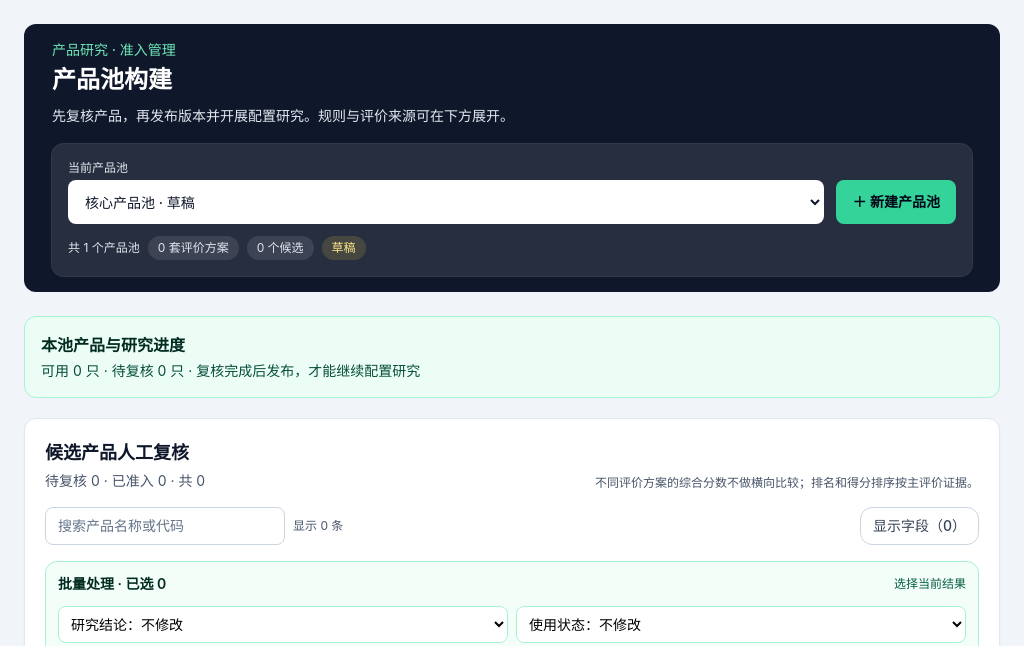
Test case: ProductPools › creates a product-pool draft from the header dialog
Expected: the dropdown labelled "当前产品池" is shown, left=68, top=180, right=824, bottom=224
Step 1. Click the button "＋ 新建产品池" → coordinates (896, 202), box left=836, top=180, right=956, bottom=224
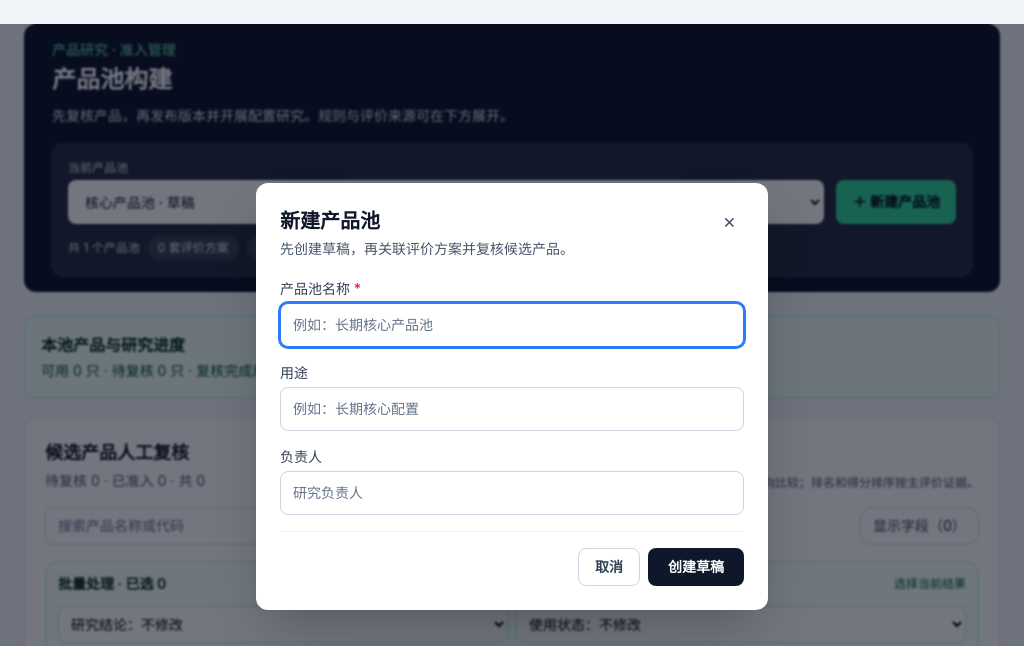
Step 2. Type "战术产品池" into the field named "新产品池名称" → coordinates (512, 324), box left=280, top=302, right=744, bottom=346
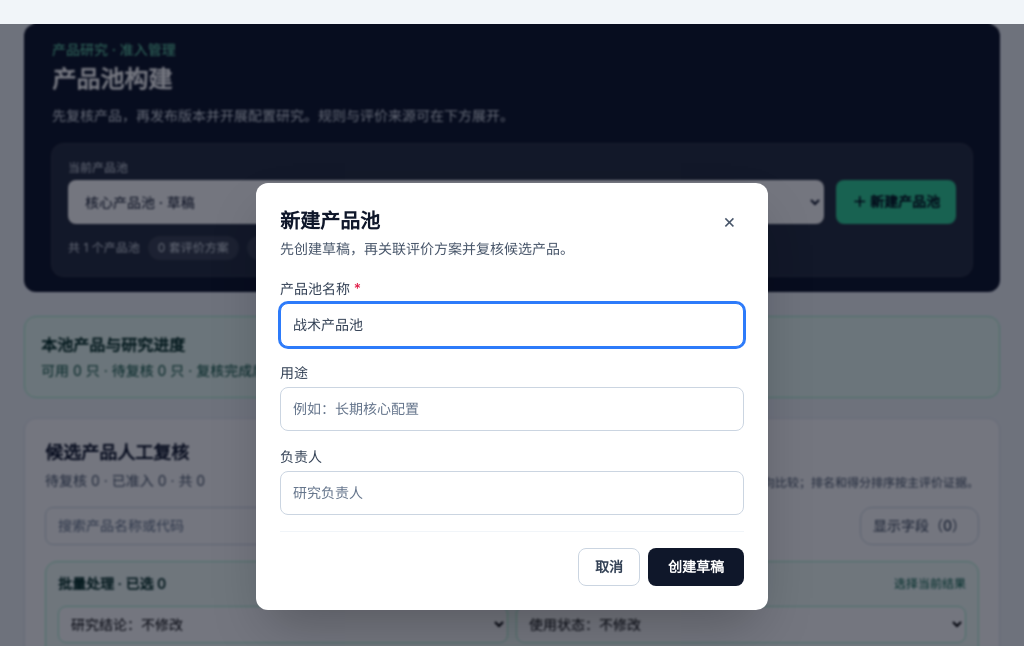
Step 3. Type "战术配置" into the field named "新产品池用途" → coordinates (512, 408), box left=280, top=386, right=744, bottom=430
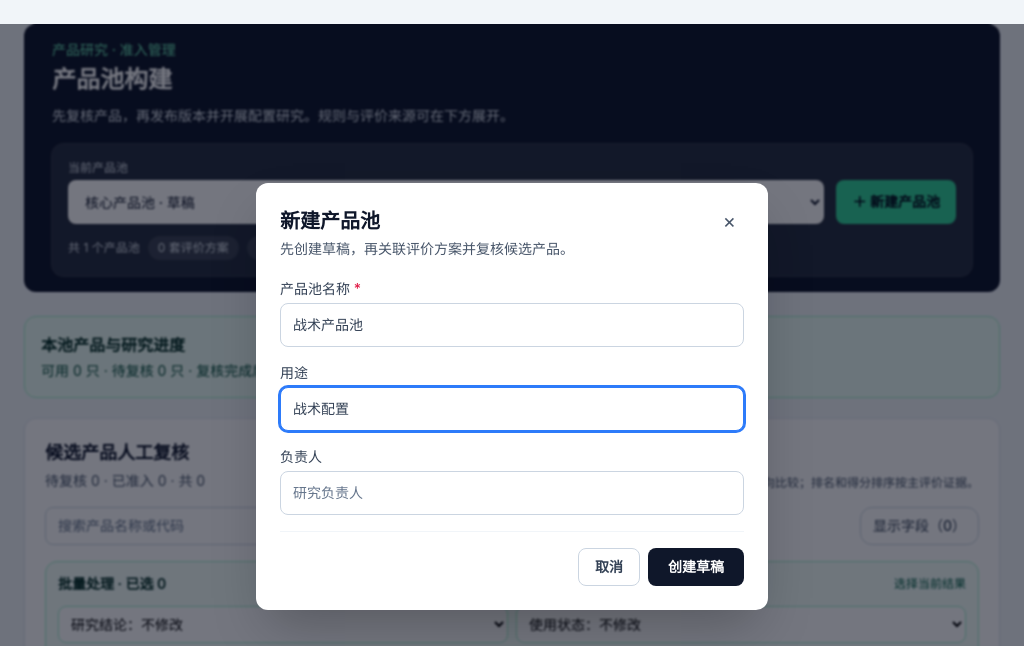
Step 4. Type "Kevin" into the field named "新产品池负责人" → coordinates (512, 492), box left=280, top=470, right=744, bottom=514
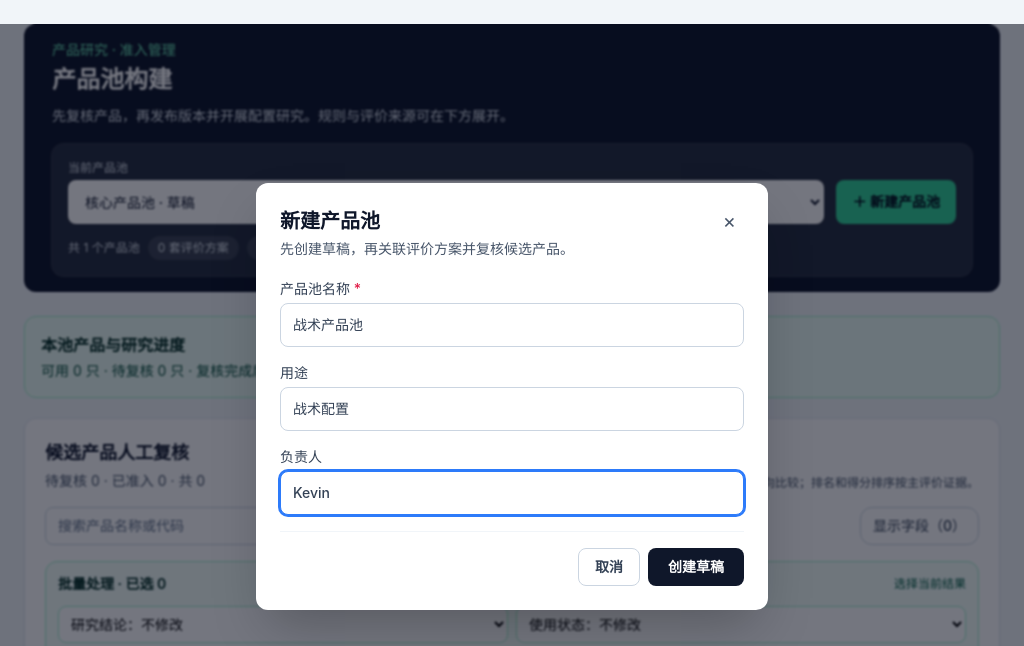
Step 5. Click the button "创建草稿" → coordinates (696, 566), box left=648, top=548, right=744, bottom=586
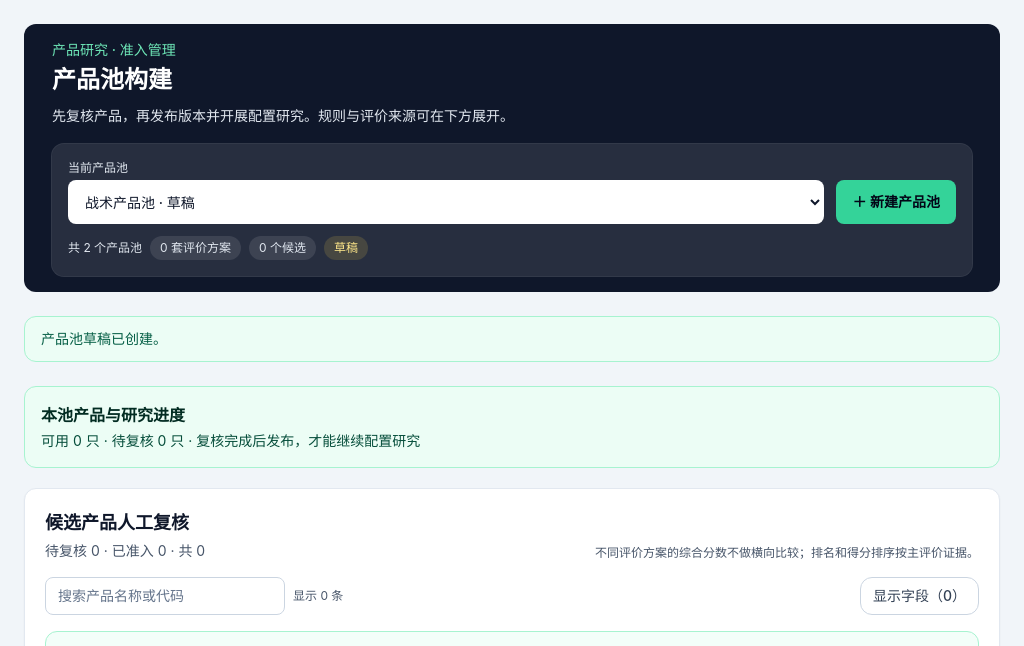
Result: the dropdown labelled "当前产品池" shows "战术产品池 · 草稿" at left=68, top=180, right=824, bottom=224
Result: the message reads "产品池草稿已创建。" at left=41, top=330, right=167, bottom=347
